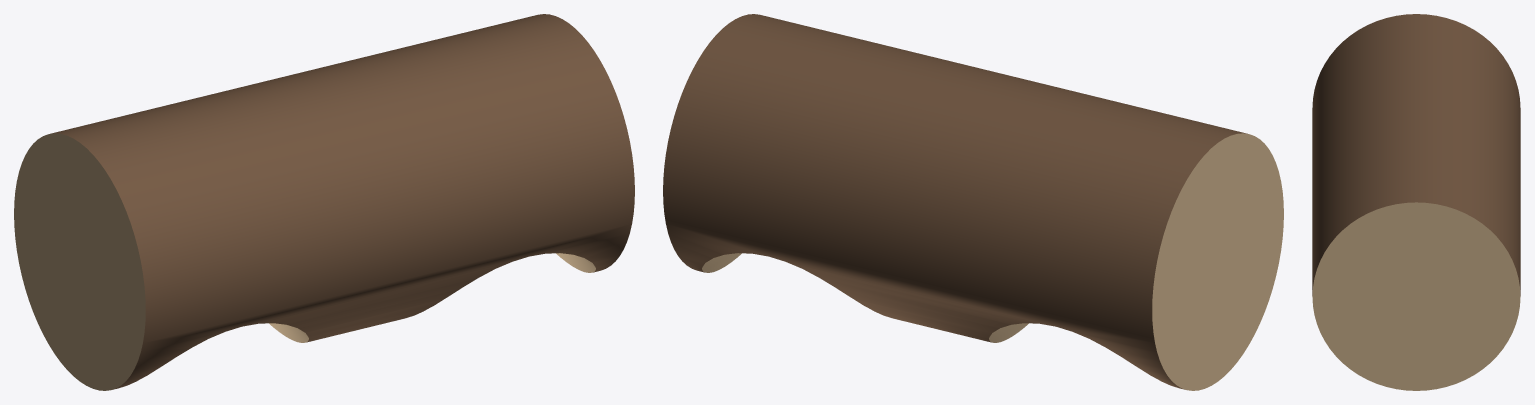
The model's file is SM_RawLog_75_Notch_Saddle.fbx.
The picture shows the model from 3 angles, left to right: view 1: azimuth 30°, elevation 25°; view 2: azimuth 150°, elevation 25°; view 3: azimuth 270°, elevation 25°; orthographic projection. The views are drawn at different scales.
Visible parts, largest first — view 1: RawLog_75_Notch_Saddle; view 2: RawLog_75_Notch_Saddle; view 3: RawLog_75_Notch_Saddle.
Part boxes in pixels (x1,y1,x2,y2): RawLog_75_Notch_Saddle: (14, 14, 634, 390); RawLog_75_Notch_Saddle: (663, 14, 1283, 390); RawLog_75_Notch_Saddle: (1312, 14, 1520, 390).
Size of what is drawn, in the model's own units: 0.75 by 0.35 by 0.35.
